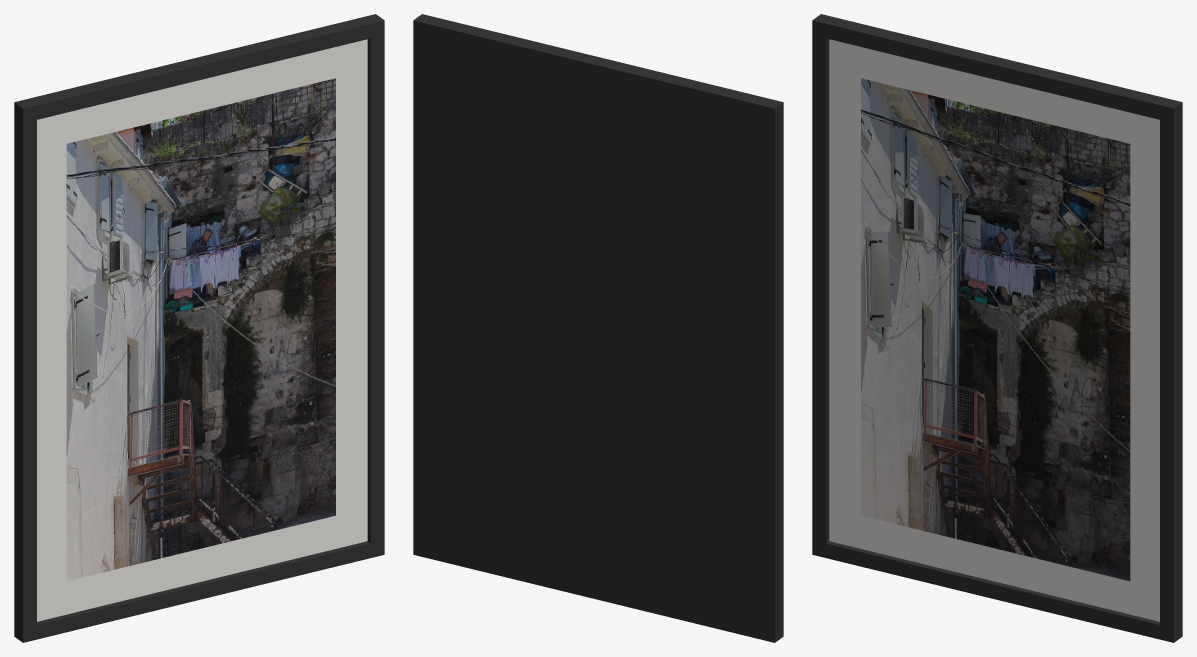
Rendered from tvatten-60.gltf.
The picture shows the model from 3 angles, left to right: view 1: azimuth 30°, elevation 25°; view 2: azimuth 150°, elevation 25°; view 3: azimuth 330°, elevation 25°; orthographic projection.
Parts seen in each view (by area): view 1: tavla; view 2: tavla; view 3: tavla.
Part boxes in pixels (x1,y1,x2,y2): tavla: [14, 14, 384, 642]; tavla: [413, 14, 783, 642]; tavla: [812, 14, 1182, 642].
Size of the model in its own units: 0.519 by 0.7327 by 0.022.
Materials: 3 (1 with a texture image).
